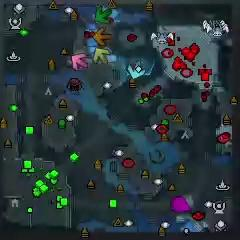p3: (171, 195, 192, 214)
x1: (71, 53, 88, 71)
x2: (93, 48, 110, 65)
x3: (126, 61, 146, 79)
x4: (95, 7, 112, 24)
x5: (93, 27, 112, 46)
